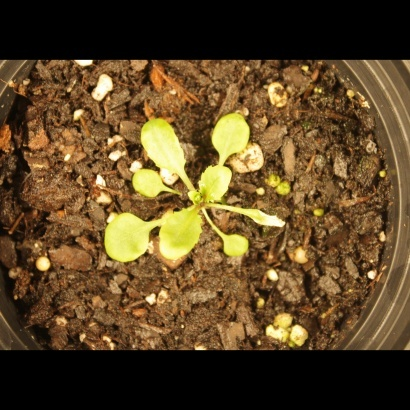leaf: (135, 113, 191, 178), (95, 210, 153, 265), (159, 206, 206, 273), (209, 106, 257, 165), (196, 159, 238, 205), (245, 201, 295, 236), (127, 168, 169, 203), (216, 227, 258, 261)
